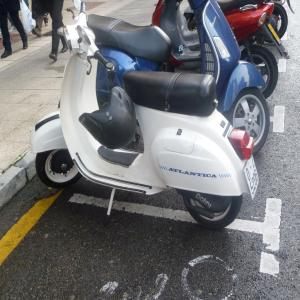Vehicle-registration-plate: (244, 153, 260, 202), (268, 24, 283, 46)
